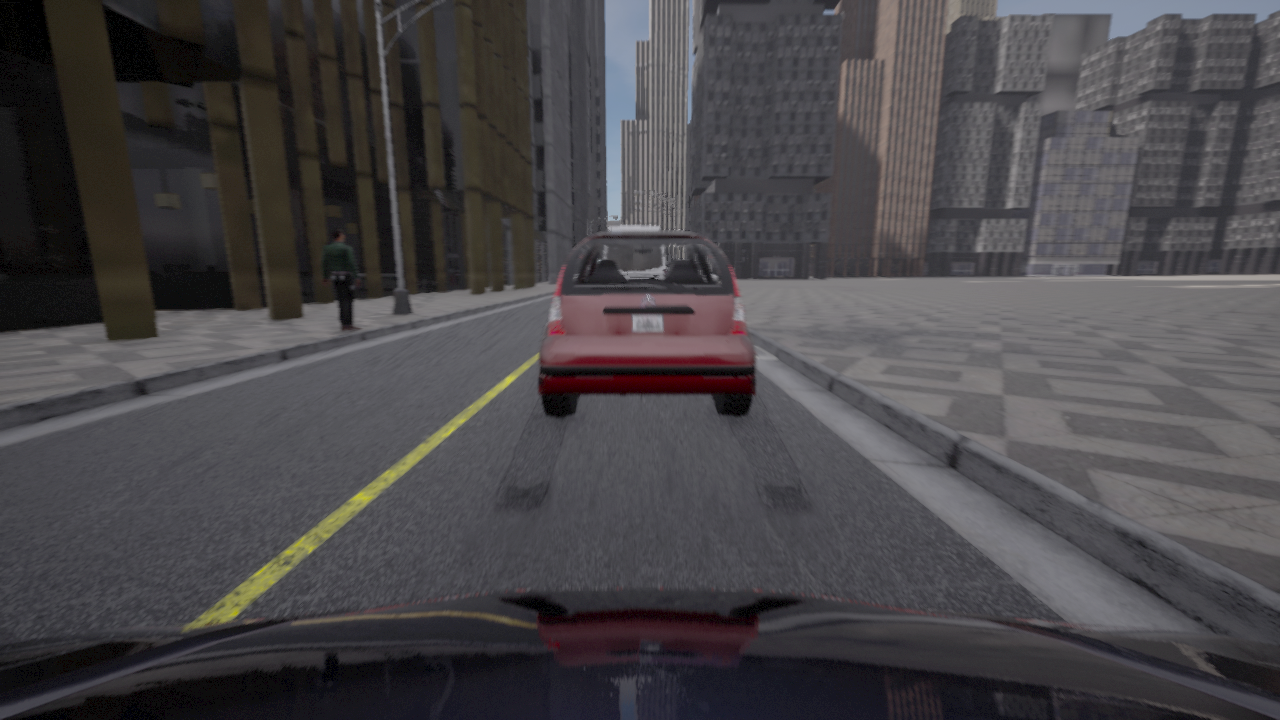cyclist: (0, 588, 1279, 719), (539, 231, 756, 416), (608, 226, 660, 230)
pedestrian: (321, 227, 361, 330)
